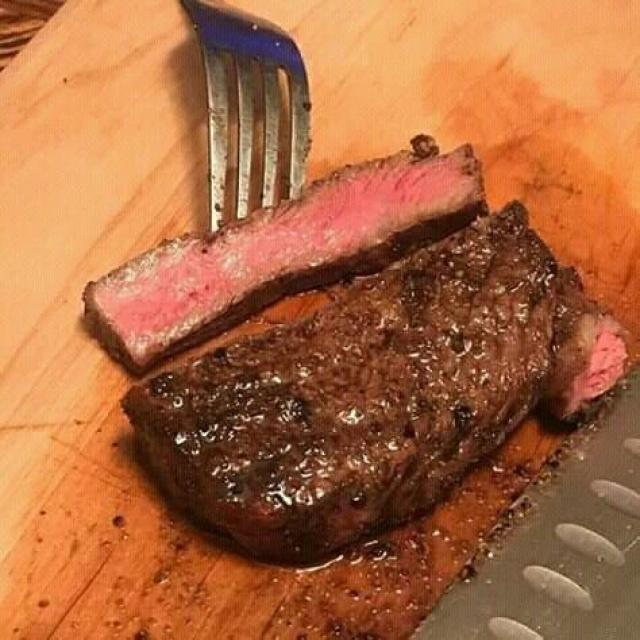beef steak: (123, 201, 626, 562), (85, 143, 483, 371)
